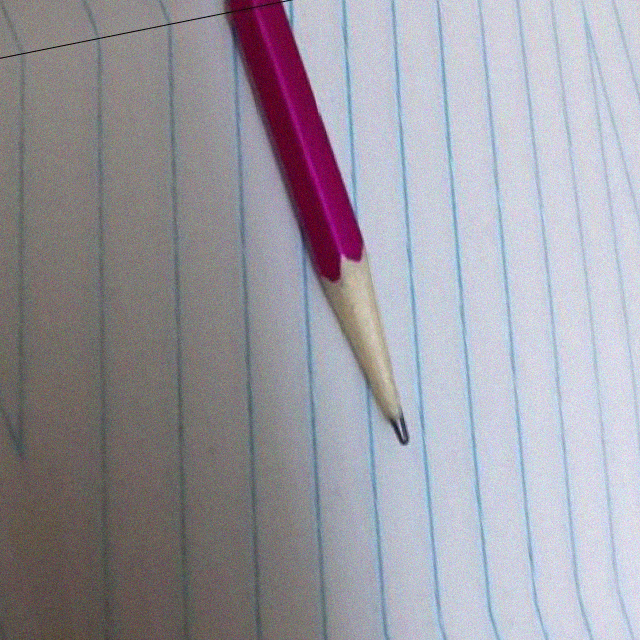pencil: (315, 238, 435, 462)
